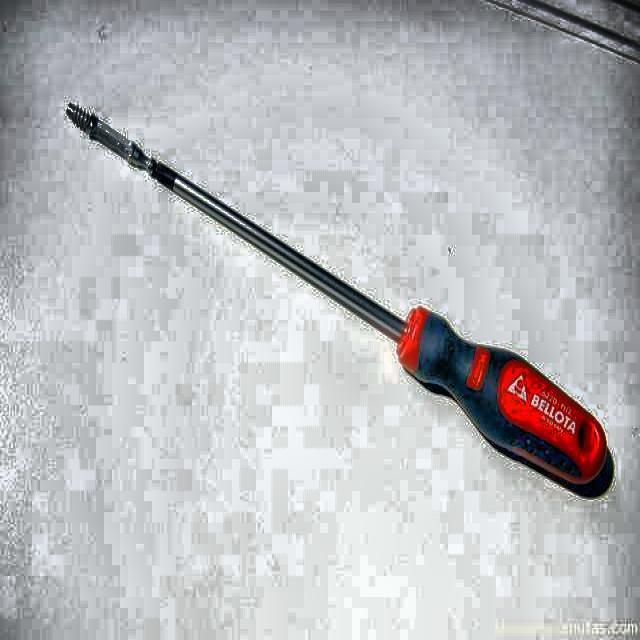screwdriver: (68, 105, 607, 482)
